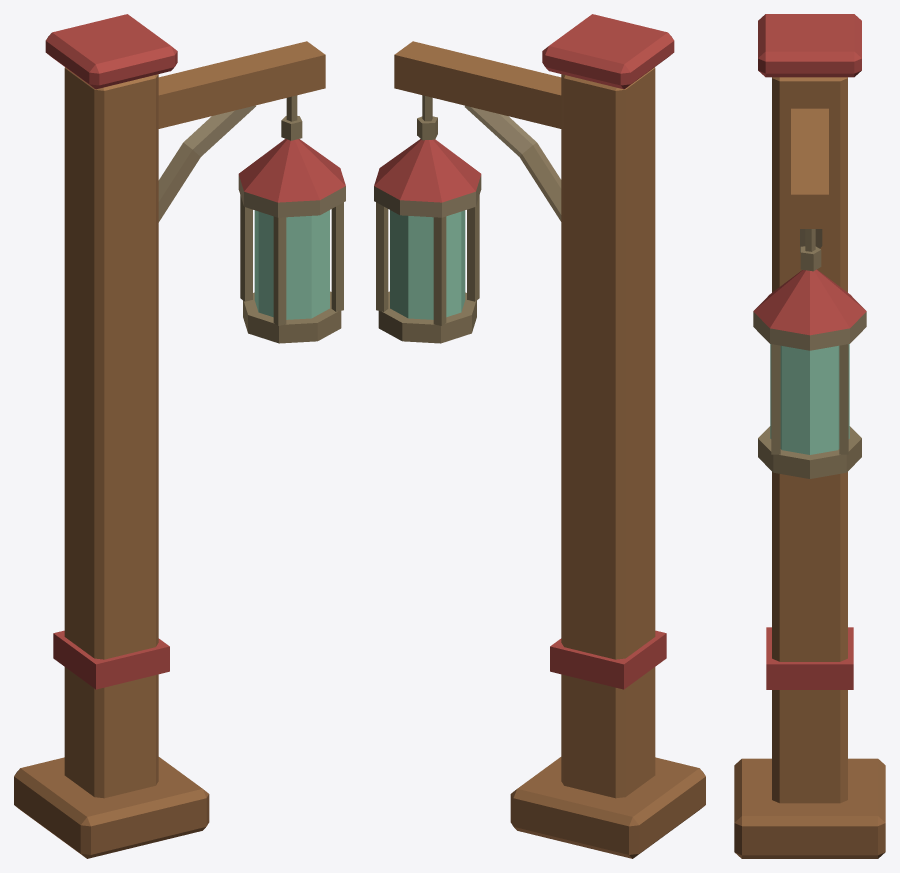
File: ranch_lantern_post.fbx
3 views of the same model, side by side, from view 1: azimuth 30°, elevation 25°; view 2: azimuth 150°, elevation 25°; view 3: azimuth 270°, elevation 25° (orthographic). The views are drawn at different scales.
Visible parts, largest first — view 1: ranch_lantern_post; view 2: ranch_lantern_post; view 3: ranch_lantern_post.
Boxes of the visible parts, left/top/right/bottom form: ranch_lantern_post: left=14, top=14, right=345, bottom=858; ranch_lantern_post: left=374, top=14, right=705, bottom=858; ranch_lantern_post: left=734, top=14, right=885, bottom=858.
Bounding box in the file's own units: 3.65 × 9.3 × 1.6.
